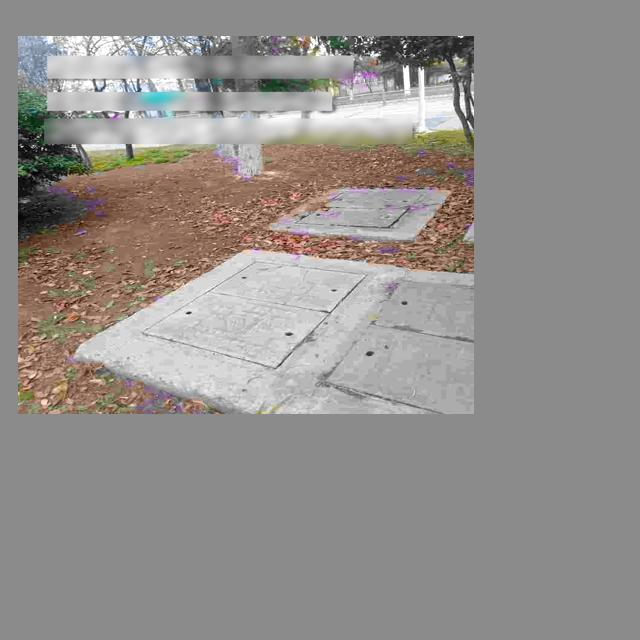good: (133, 258, 374, 374), (308, 277, 474, 414), (289, 190, 427, 231)
